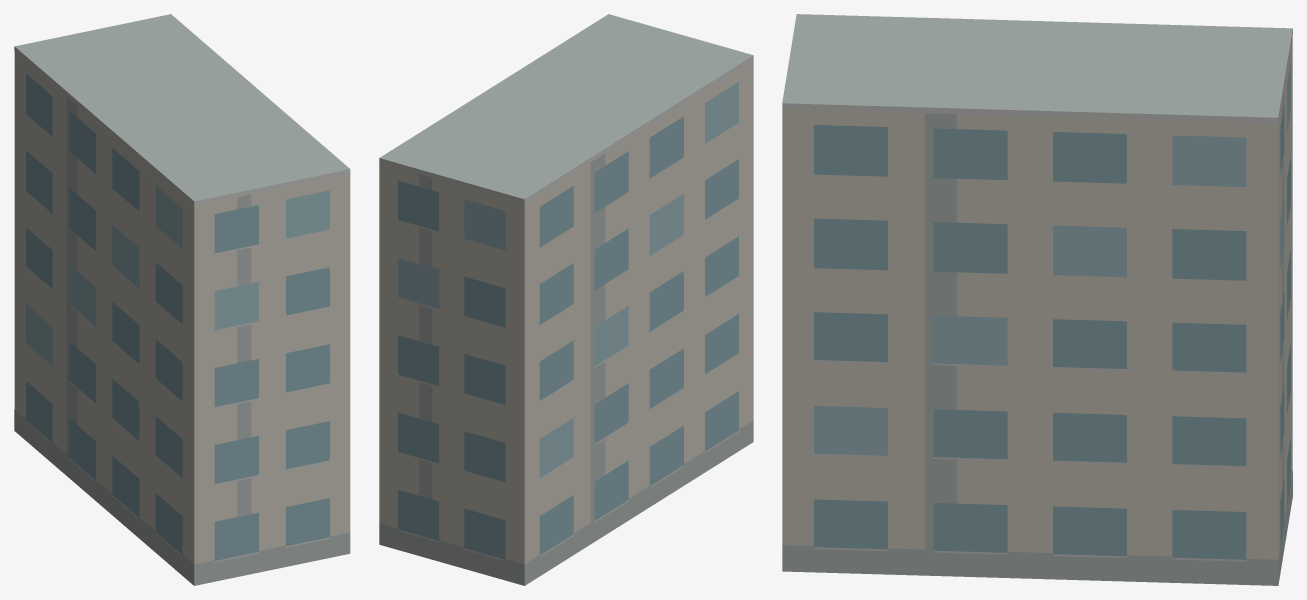
The model's file is survey-upis-32754755.glb.
3 views of the same model, side by side, from view 1: azimuth 30°, elevation 25°; view 2: azimuth 150°, elevation 25°; view 3: azimuth 270°, elevation 25° (orthographic). The views are drawn at different scales.
Parts seen in each view (by area): view 1: survey-upis-32754755.tmp; view 2: survey-upis-32754755.tmp; view 3: survey-upis-32754755.tmp.
Boxes of the visible parts, bbox=[...] form: survey-upis-32754755.tmp: bbox=[14, 14, 350, 585]; survey-upis-32754755.tmp: bbox=[379, 14, 753, 585]; survey-upis-32754755.tmp: bbox=[782, 14, 1292, 585].
Size of the model in its own units: 9.28 by 19.5 by 19.29.
